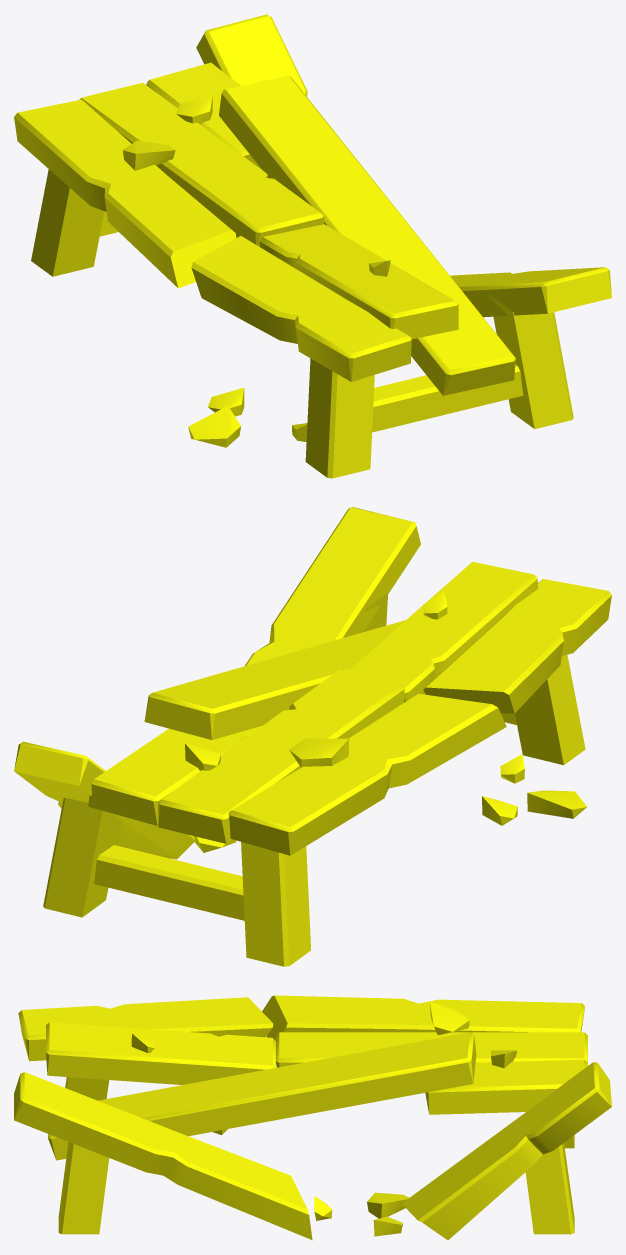
The model's file is kaykit-table-long-broken.glb.
3 renders of one model, top to bottom at view 1: azimuth 30°, elevation 25°; view 2: azimuth 150°, elevation 25°; view 3: azimuth 270°, elevation 25°, orthographic. The views are drawn at different scales.
Parts seen in each view (by area): view 1: table_long_broken; view 2: table_long_broken; view 3: table_long_broken.
Boxes of the visible parts, x1,y1,x2,y2 form: table_long_broken: (14,14,611,478); table_long_broken: (14,507,611,966); table_long_broken: (14,995,611,1240).
Size of the model in its own units: 2.41 by 1.27 by 4.4.
